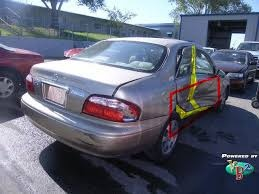Broken-glass: (179, 50, 211, 75)
Dent: (174, 80, 220, 116)
